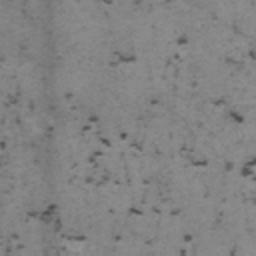Oxide scale of temperature system: (0, 20, 256, 256), (101, 0, 146, 6)
